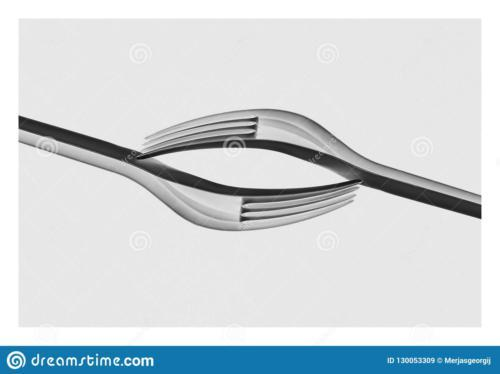Fork: (18, 116, 364, 232), (136, 109, 482, 220)
